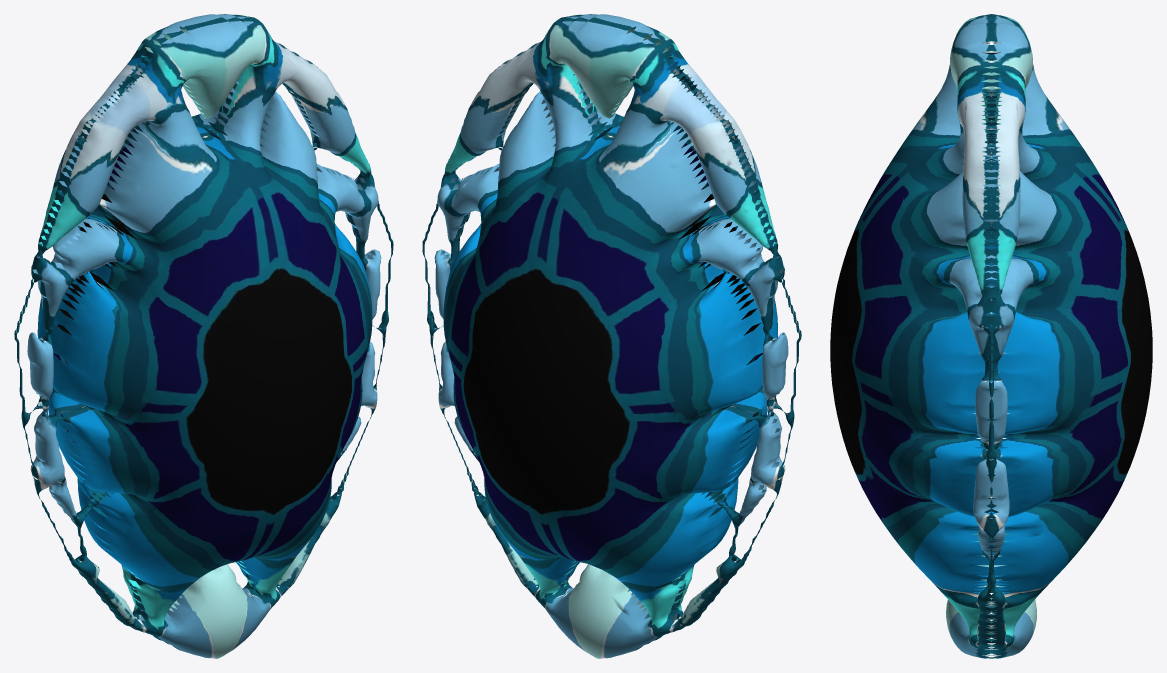
The model's file is ice_portal.glb.
3 views of the same model, side by side, from view 1: azimuth 30°, elevation 25°; view 2: azimuth 150°, elevation 25°; view 3: azimuth 270°, elevation 25° (orthographic).
Visible parts, largest first — view 1: ice_portal; view 2: ice_portal; view 3: ice_portal.
Part boxes in pixels (left/top/right/bottom): ice_portal: left=14, top=14, right=393, bottom=658; ice_portal: left=422, top=14, right=801, bottom=658; ice_portal: left=830, top=14, right=1152, bottom=658.
Bounding box in the file's own units: 0.9825 × 1.57 × 0.7309.
Materials: 1 (1 with a texture image).
